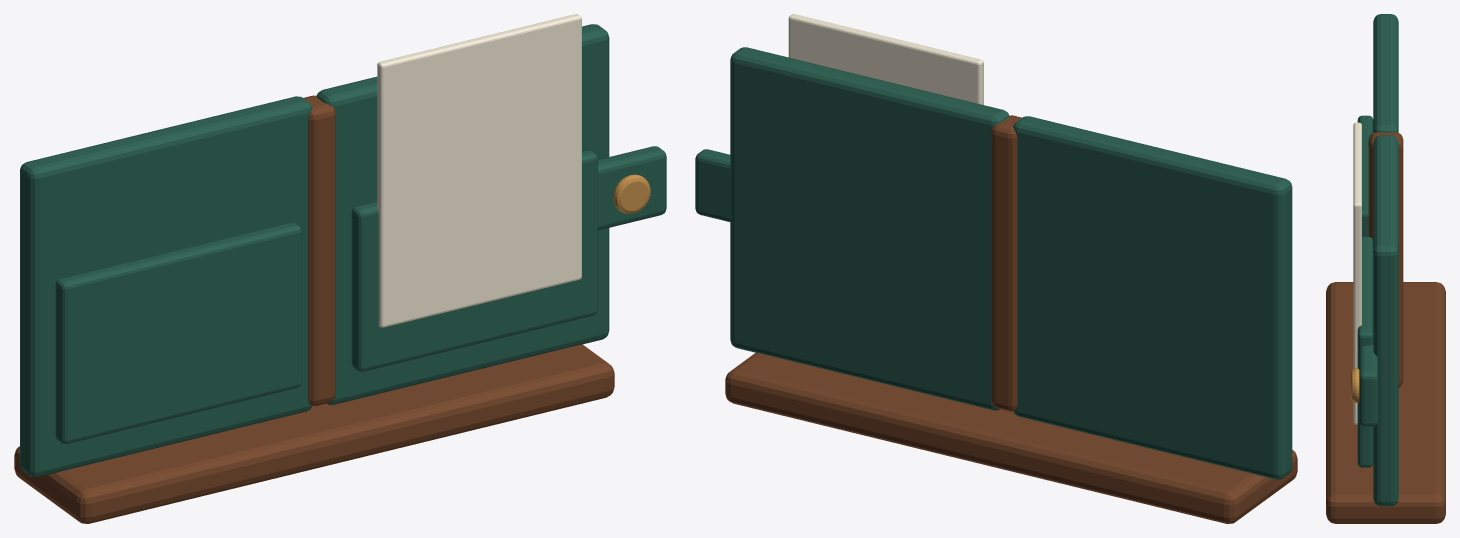
The model's file is hybrid-balance-wallet-card-half.glb.
The picture shows the model from 3 angles, left to right: view 1: azimuth 30°, elevation 25°; view 2: azimuth 150°, elevation 25°; view 3: azimuth 270°, elevation 25°; orthographic projection. The views are drawn at different scales.
Parts seen in each view (by area): view 1: Blank ivory balance card, Left wallet panel, Left leather pocket, Walnut wallet dock, Right wallet panel, Right leather pocket, Walnut wallet hinge, Open clasp strap, Open brass snap; view 2: Left wallet panel, Right wallet panel, Walnut wallet dock, Blank ivory balance card, Walnut wallet hinge, Open clasp strap; view 3: Walnut wallet dock, Right wallet panel, Left wallet panel, Right leather pocket, Walnut wallet hinge, Blank ivory balance card, Open clasp strap, Left leather pocket, Open brass snap.
Part boxes in pixels (bbox=[...]): Blank ivory balance card: bbox=[377, 14, 581, 327]; Left wallet panel: bbox=[20, 96, 312, 477]; Left leather pocket: bbox=[55, 222, 301, 443]; Walnut wallet dock: bbox=[14, 344, 614, 523]; Right wallet panel: bbox=[316, 24, 609, 404]; Right leather pocket: bbox=[351, 150, 597, 371]; Walnut wallet hinge: bbox=[303, 95, 335, 405]; Open clasp strap: bbox=[597, 146, 666, 230]; Open brass snap: bbox=[613, 174, 650, 213]; Left wallet panel: bbox=[1013, 116, 1292, 479]; Right wallet panel: bbox=[730, 47, 1009, 410]; Walnut wallet dock: bbox=[725, 353, 1297, 523]; Blank ivory balance card: bbox=[788, 14, 983, 104]; Walnut wallet hinge: bbox=[991, 115, 1021, 411]; Open clasp strap: bbox=[695, 149, 730, 221]; Walnut wallet dock: bbox=[1326, 282, 1445, 523]; Right wallet panel: bbox=[1373, 135, 1398, 506]; Left wallet panel: bbox=[1373, 14, 1398, 132]; Right leather pocket: bbox=[1357, 236, 1373, 467]; Walnut wallet hinge: bbox=[1368, 132, 1403, 387]; Blank ivory balance card: bbox=[1353, 122, 1361, 424]; Open clasp strap: bbox=[1359, 345, 1377, 426]; Left leather pocket: bbox=[1357, 115, 1373, 236]; Open brass snap: bbox=[1351, 368, 1359, 402].
Size of the model in its own units: 3.87 by 2.2 by 0.76.
